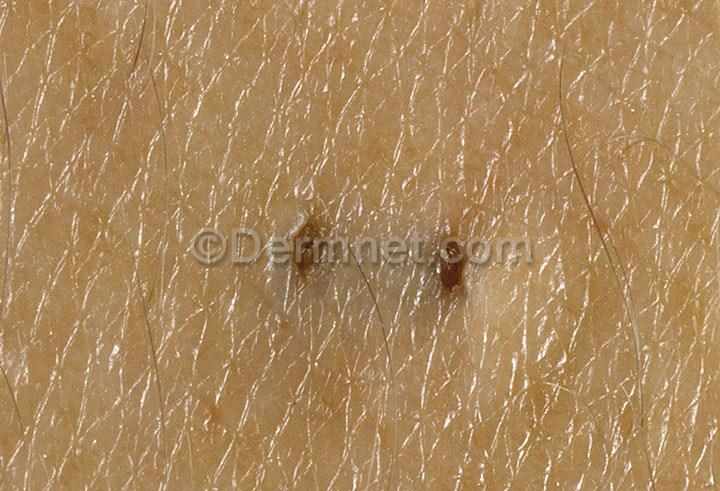Acne: (276, 209, 484, 315)
